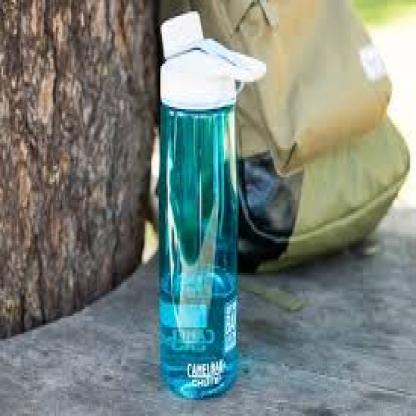Plastic: (144, 9, 256, 400)
